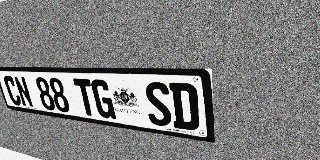8: (47, 77, 71, 113), (34, 77, 56, 111)
C: (2, 76, 23, 106)
D: (169, 82, 200, 131)
G: (90, 79, 116, 119)
N: (13, 76, 34, 108)
S: (143, 81, 173, 128)
T: (73, 78, 98, 117)
